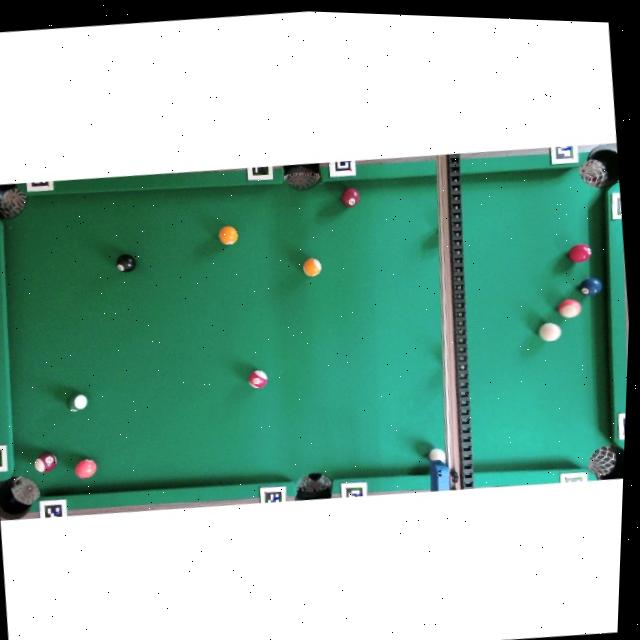cue ball: (537, 320, 562, 343)
other: (73, 456, 98, 480), (33, 450, 58, 473), (577, 276, 603, 298), (556, 297, 582, 319), (567, 242, 591, 264), (65, 392, 88, 413), (340, 186, 361, 208), (217, 224, 238, 246), (247, 368, 268, 389), (115, 252, 136, 273), (301, 257, 322, 277)
